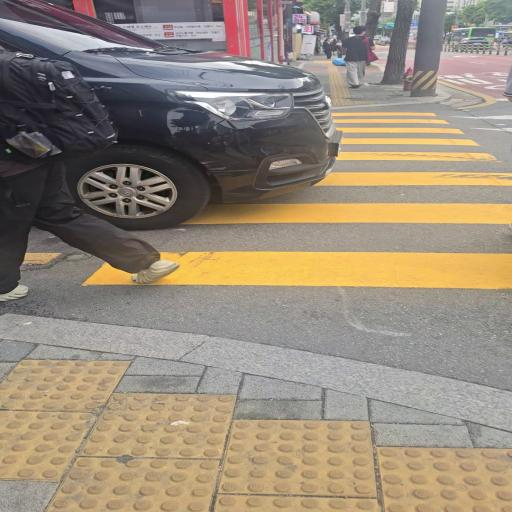yellow-crosswalk: (53, 105, 512, 302)
